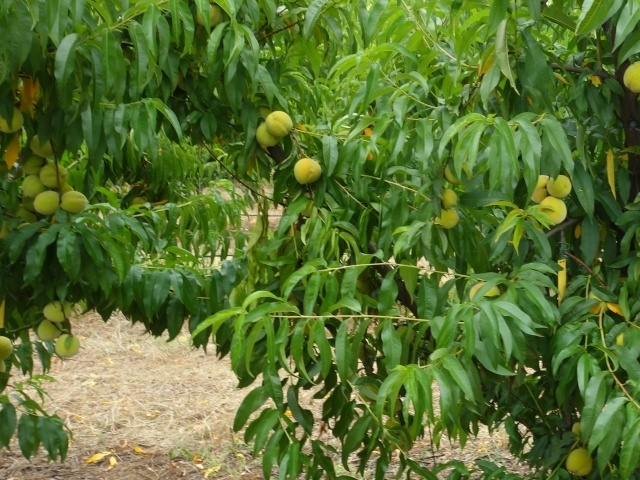peach: (463, 277, 502, 305), (30, 187, 65, 218), (263, 109, 296, 141), (291, 157, 324, 188), (616, 56, 640, 98), (564, 445, 595, 477), (537, 196, 568, 226), (41, 298, 74, 326), (525, 173, 554, 203), (37, 164, 69, 191), (59, 188, 88, 217), (53, 331, 82, 360), (546, 172, 574, 201), (252, 120, 280, 149), (194, 2, 222, 30), (433, 204, 461, 231), (26, 131, 54, 158), (34, 316, 62, 343), (18, 152, 47, 178), (18, 174, 47, 199), (436, 187, 462, 212), (1, 104, 23, 133), (585, 290, 609, 316), (1, 330, 13, 364)
